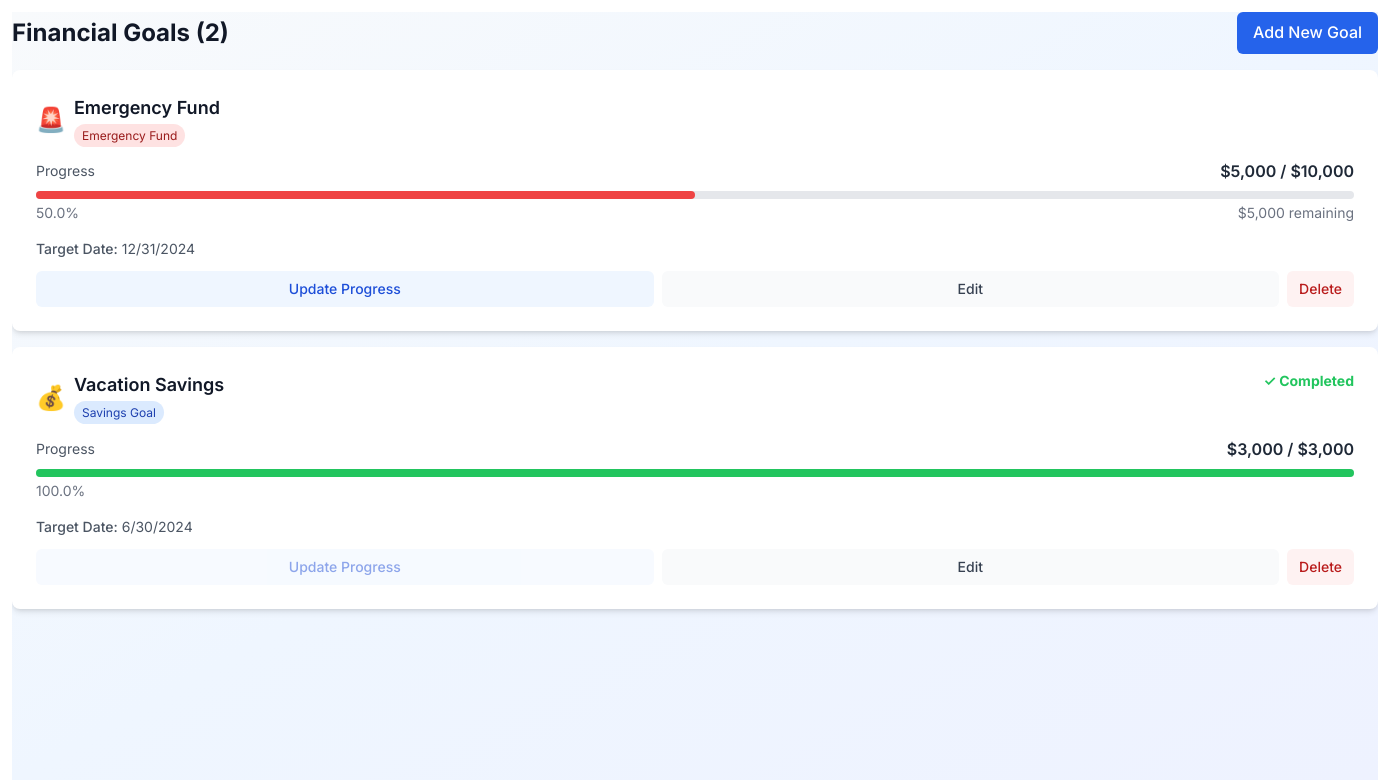
it: Refactored GoalsSection Component › Goal Creation › should create goal successfully with API client
# Open form
Click the button with test id "add-goal-button" at coordinates (1308, 33), box [1237,12,1378,54]
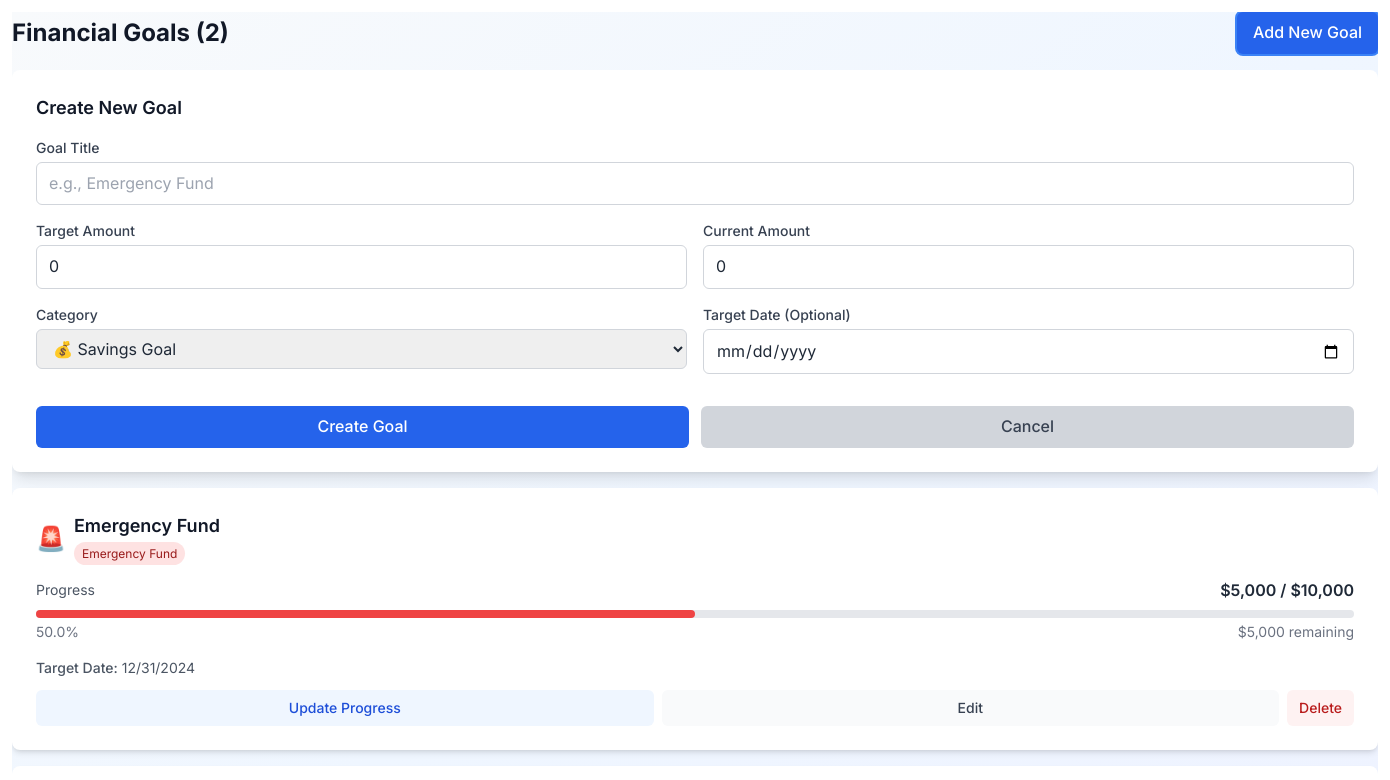
# Fill form
Type "New Car" into the field with test id "goal-title-input" at coordinates (695, 183), box [36,162,1354,205]
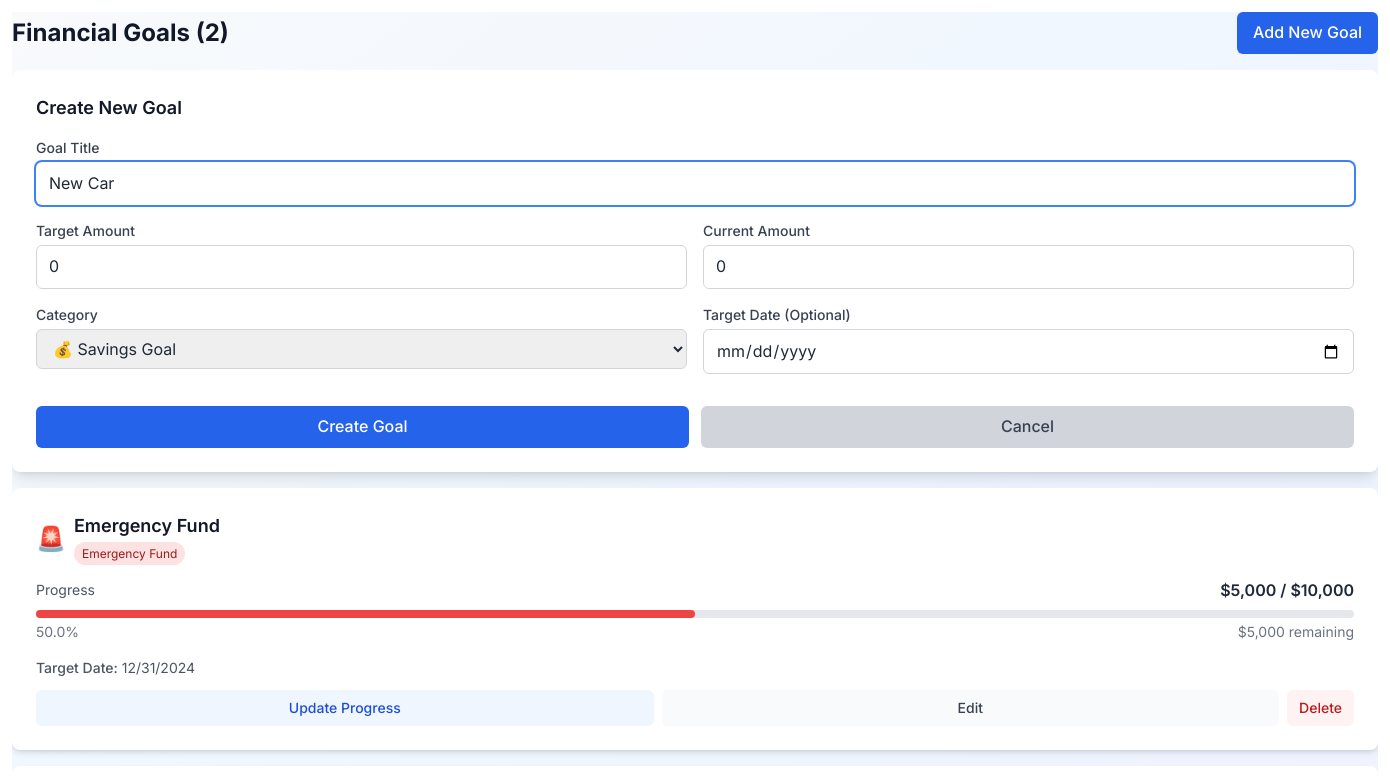
Type "25000" into the number field with test id "target-amount-input" at coordinates (362, 267), box [36,245,687,289]
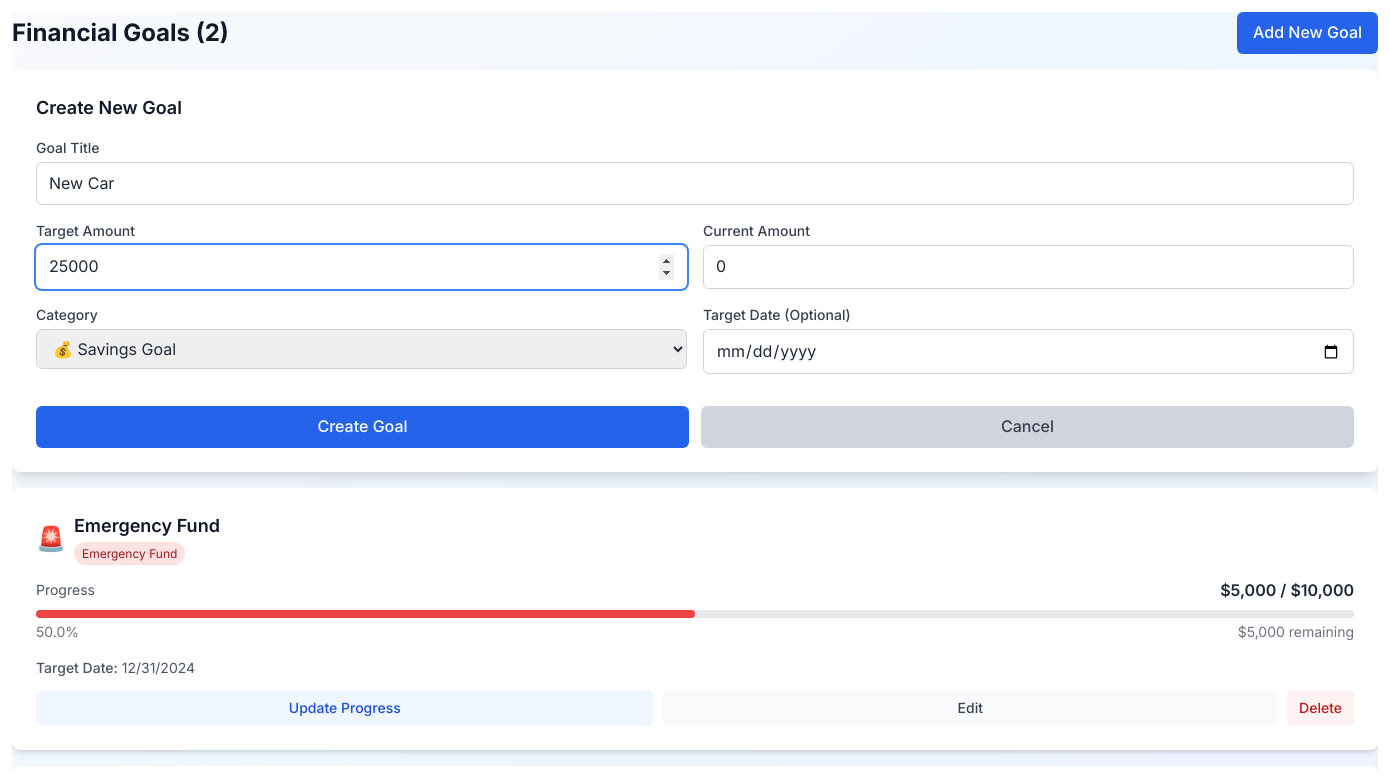
Select "🛒 Purchase Goal" in the dropdown with test id "category-select" at coordinates (362, 349), box [36,329,687,369]
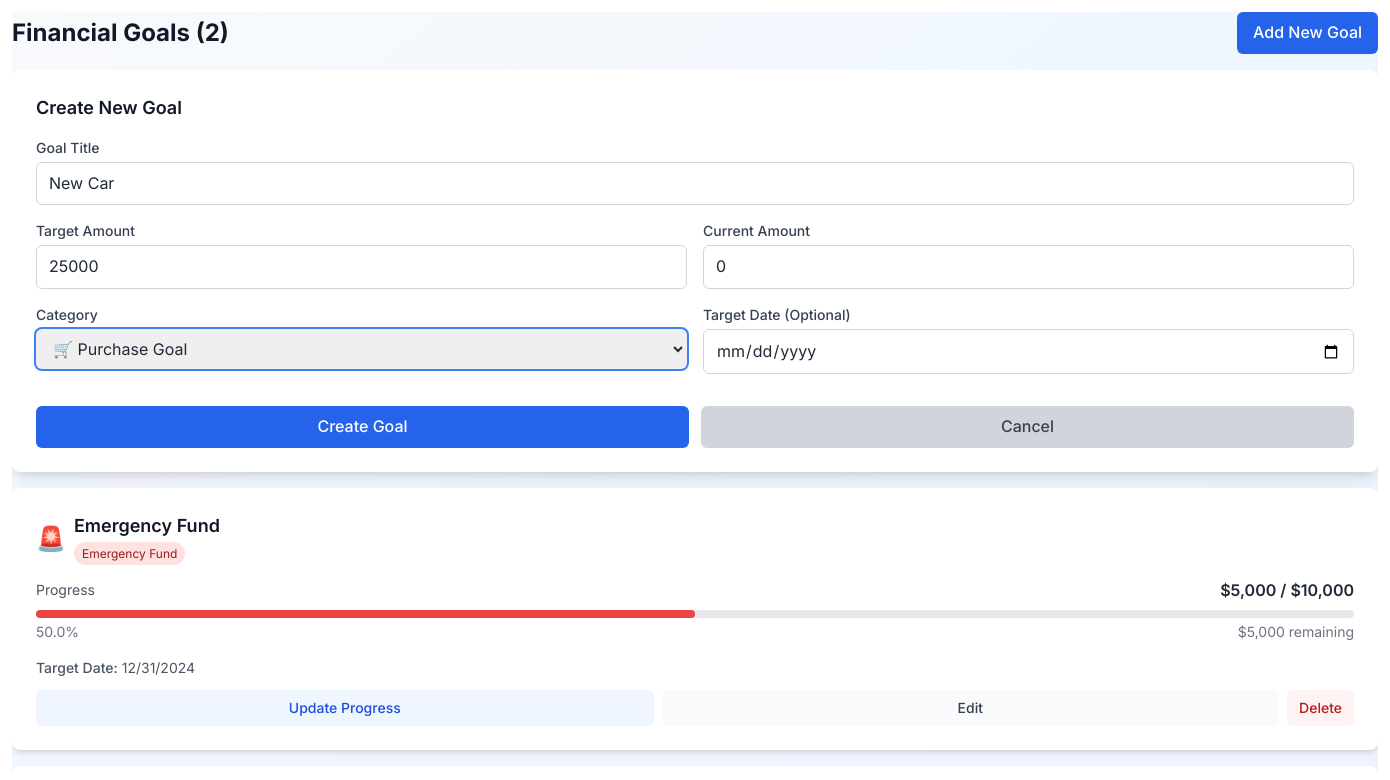
Type "2025-12-31" into the date field with test id "deadline-input" at coordinates (1028, 352), box [703,329,1354,374]
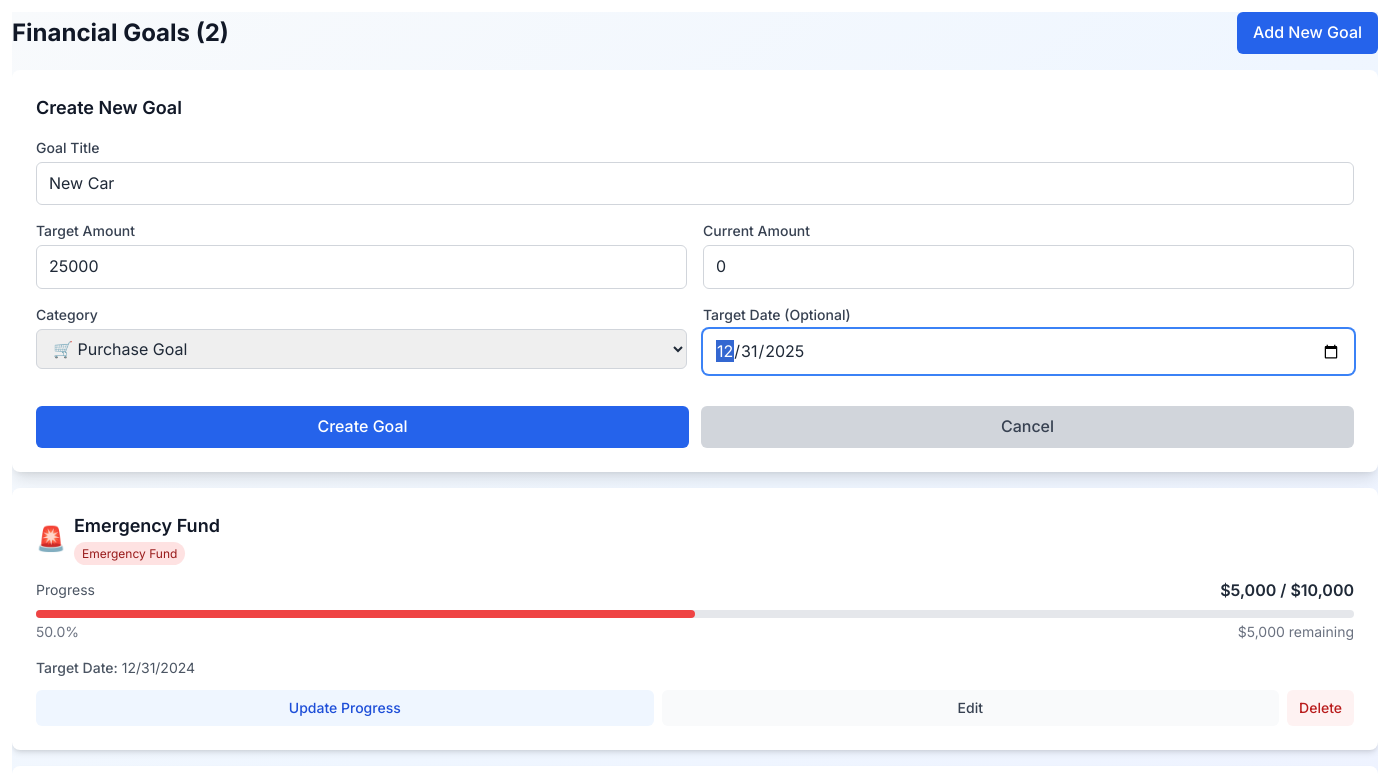
# Submit form
Click the button with test id "submit-goal-button" at coordinates (362, 427), box [36,406,689,448]
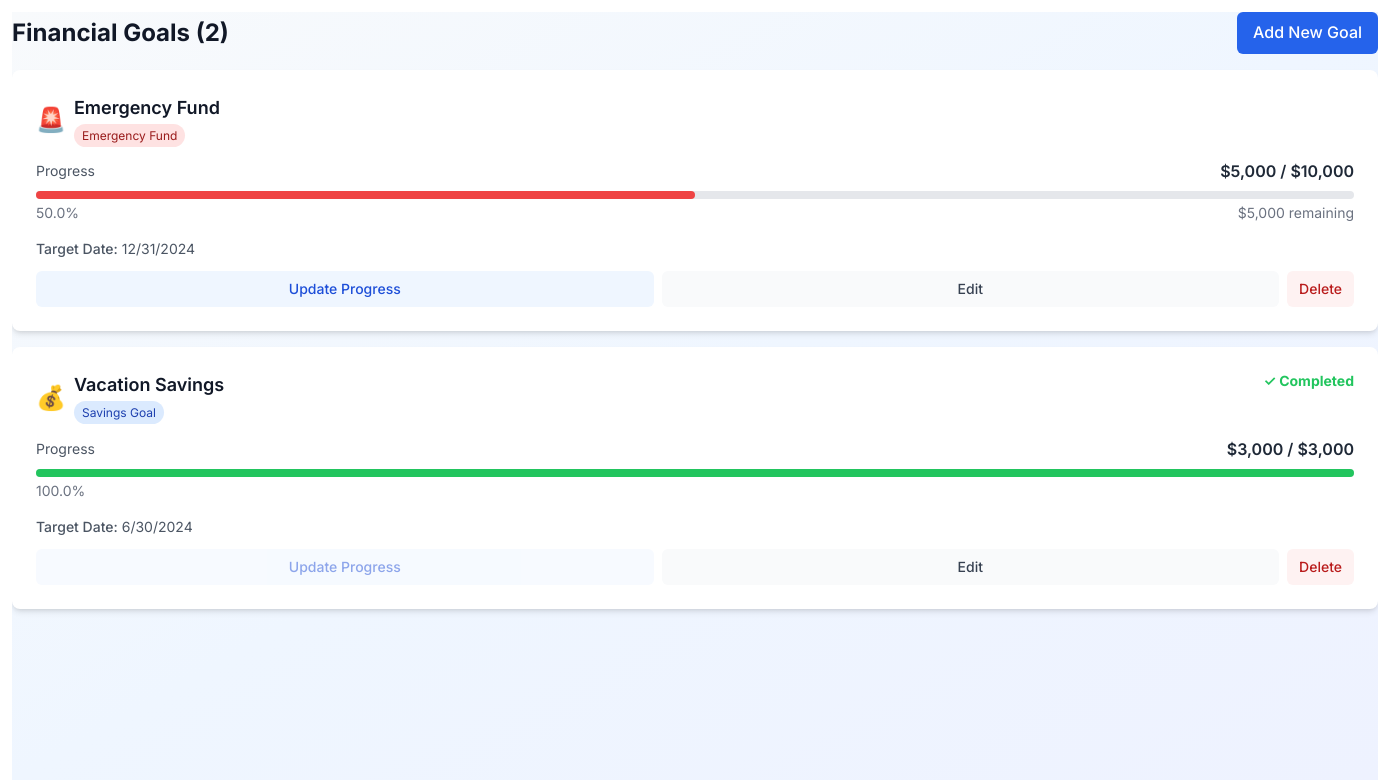
expect the element with test id "goal-form" is gone: met
